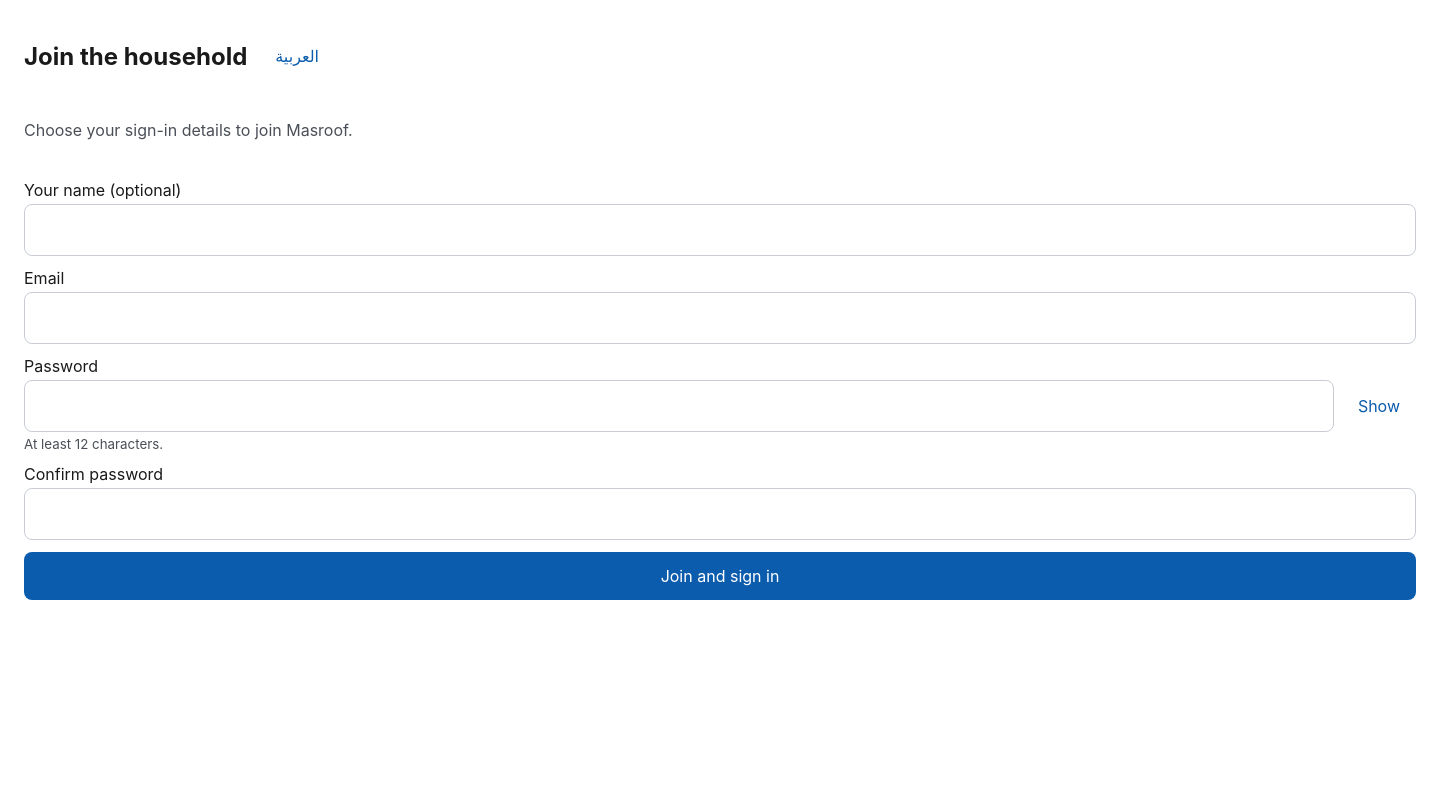
Test: REQ-SEC-061 Accept invite page › REQ-SEC-061 an invalid invite shows one generic message and stays signed out
Step 1. Type "mai@example.com" into the field labelled "Email" → [720, 318], box [24, 292, 1416, 344]
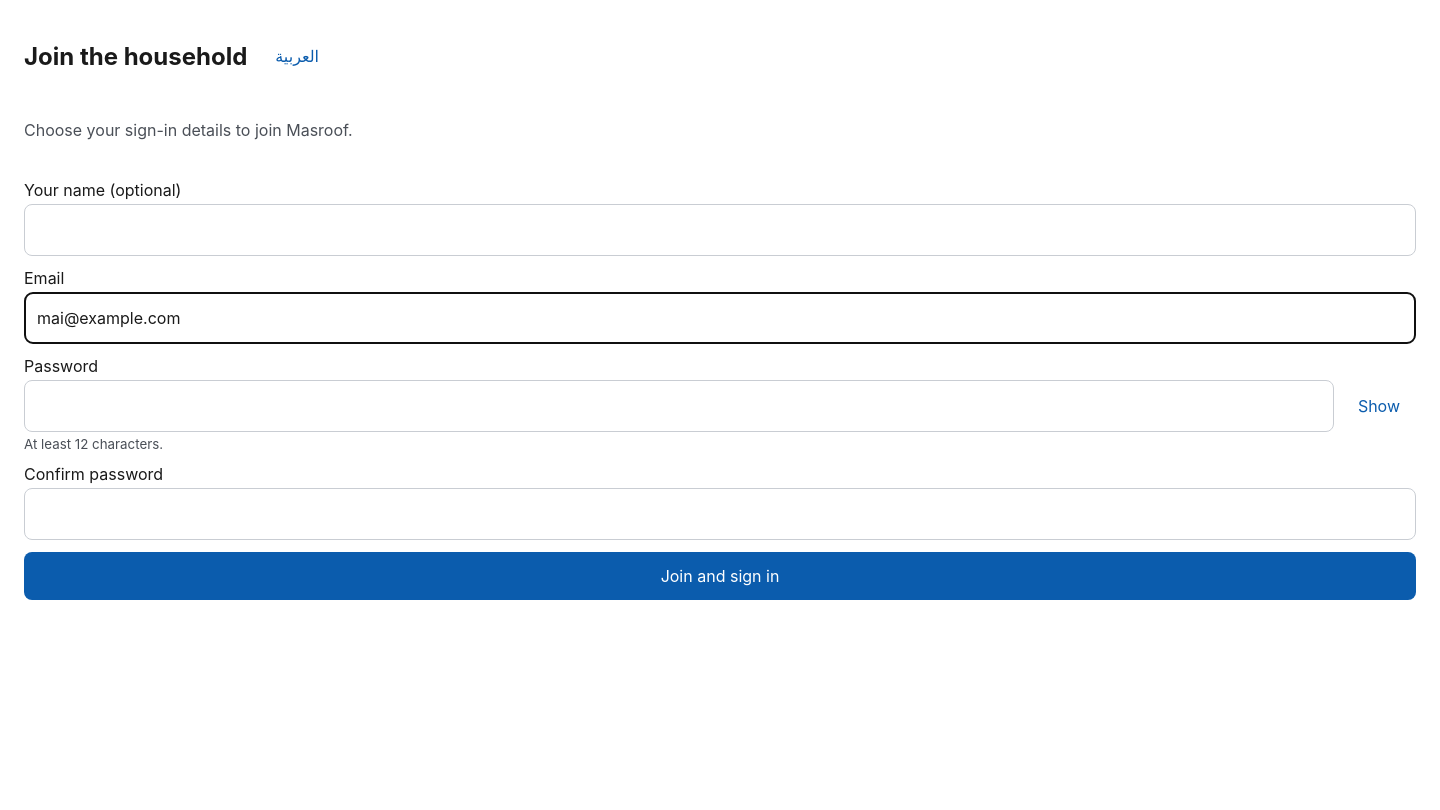
Step 2. Type "a long enough pass" into the password field labelled "Password" → [679, 406], box [24, 380, 1334, 432]
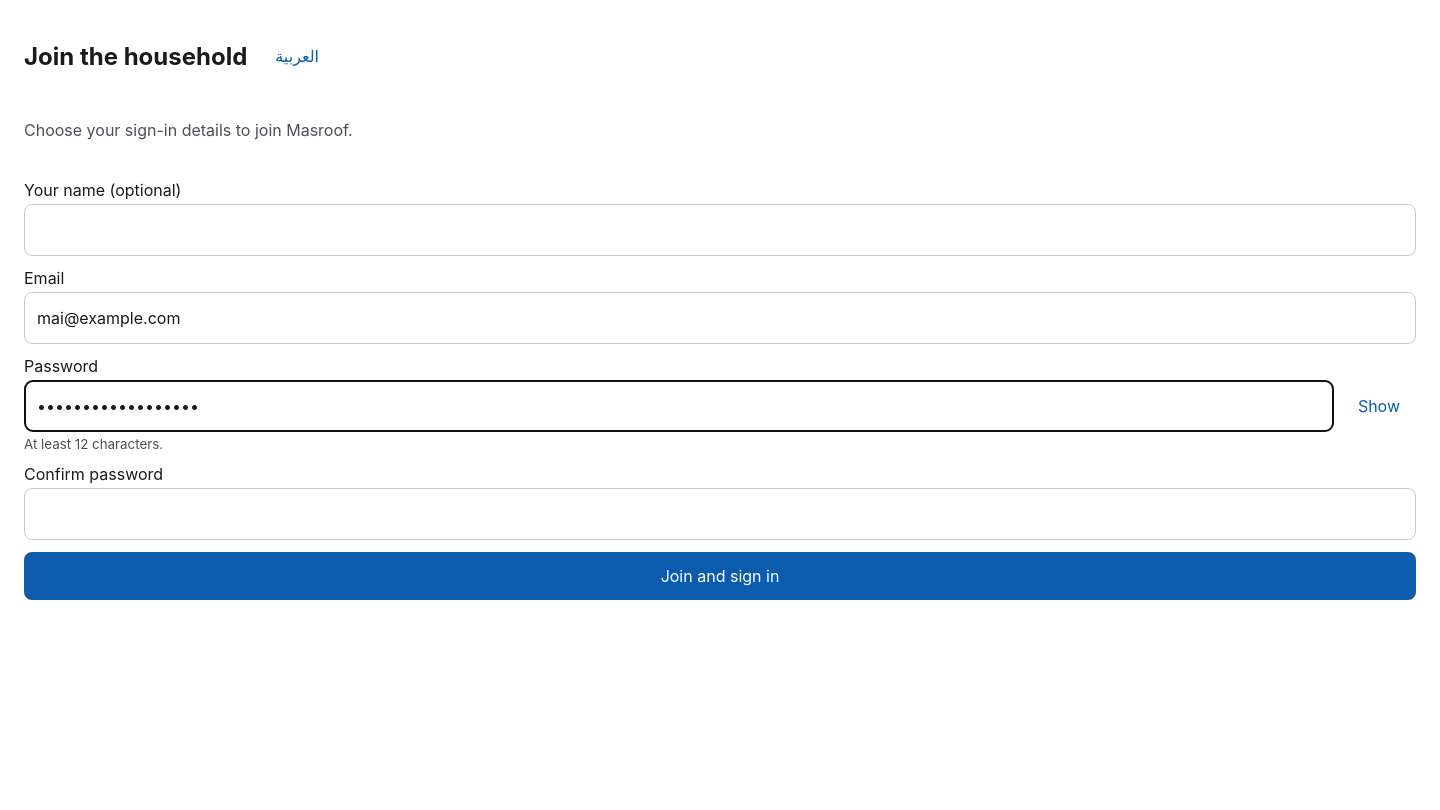
Step 3. Type "a long enough pass" into the password field labelled "Confirm password" → [720, 514], box [24, 488, 1416, 540]
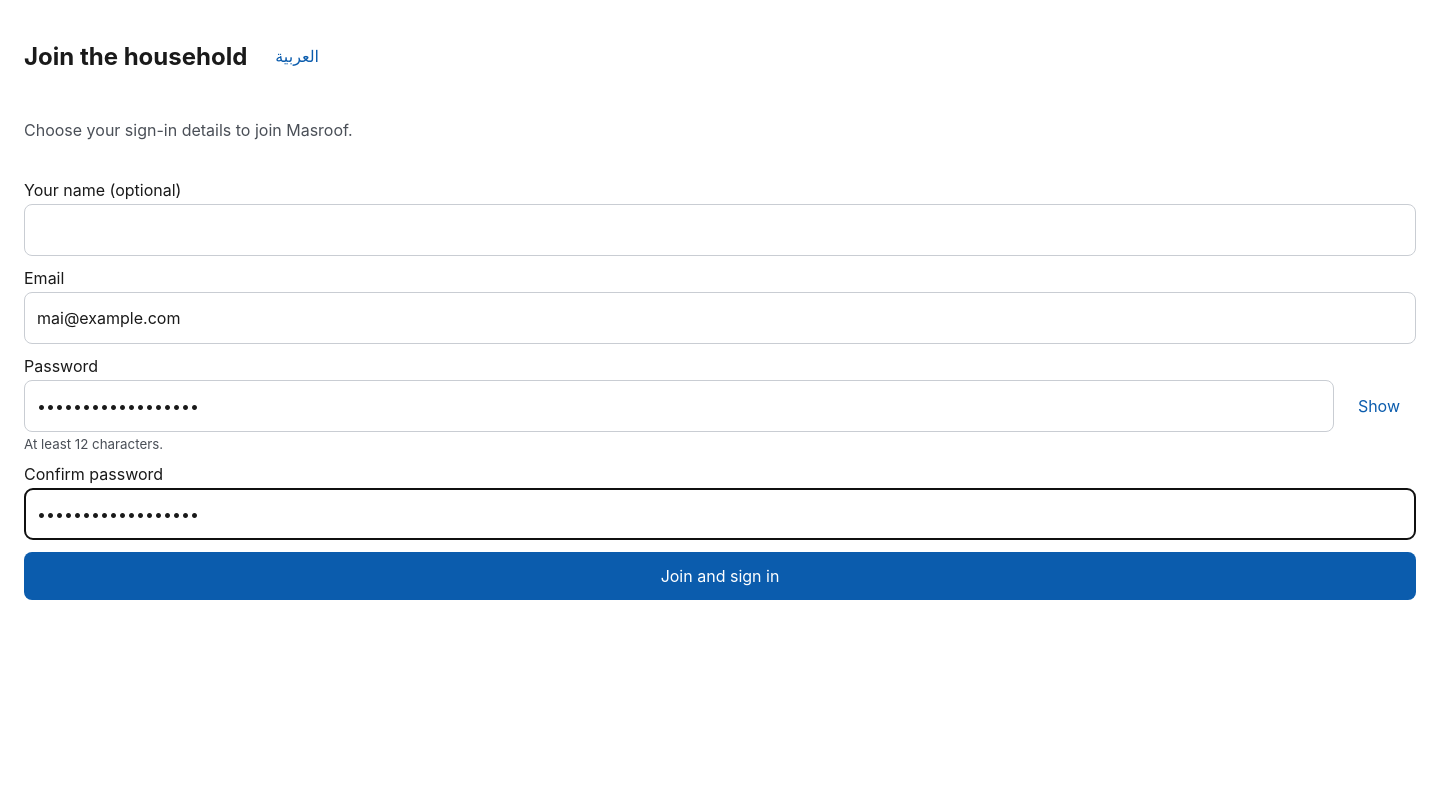
Step 4. Click the button "Join and sign in" → [720, 576], box [24, 552, 1416, 600]
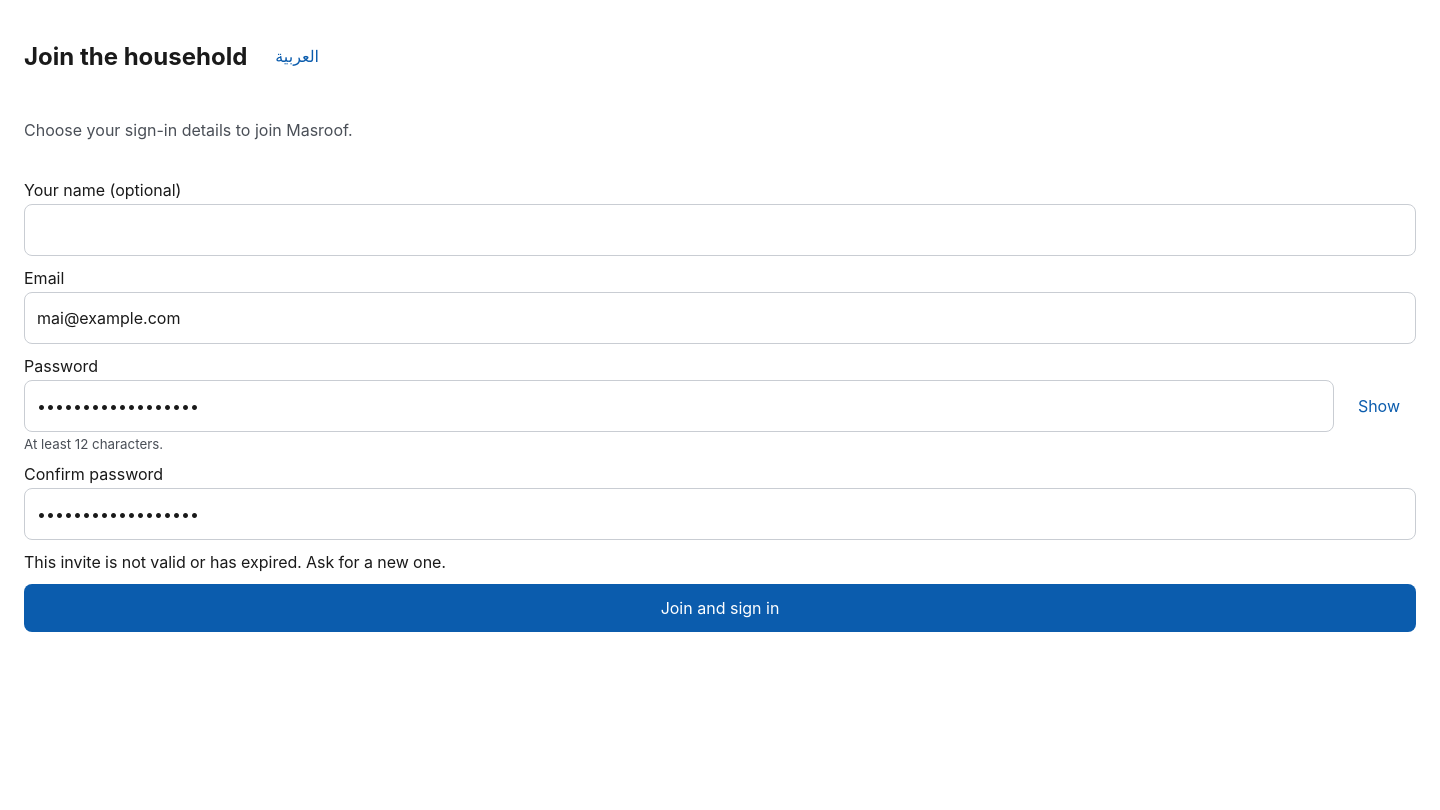
Expected: the message shows "not valid or has expired", [24, 552, 446, 572]
